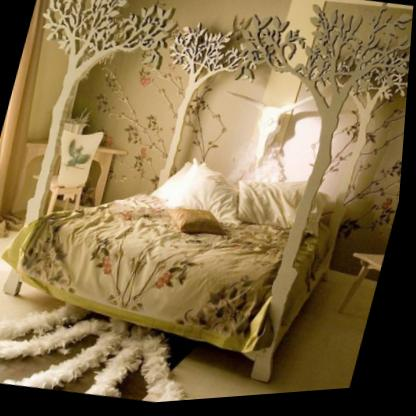Bed: (0, 161, 353, 392)
Chair: (26, 123, 106, 228)
